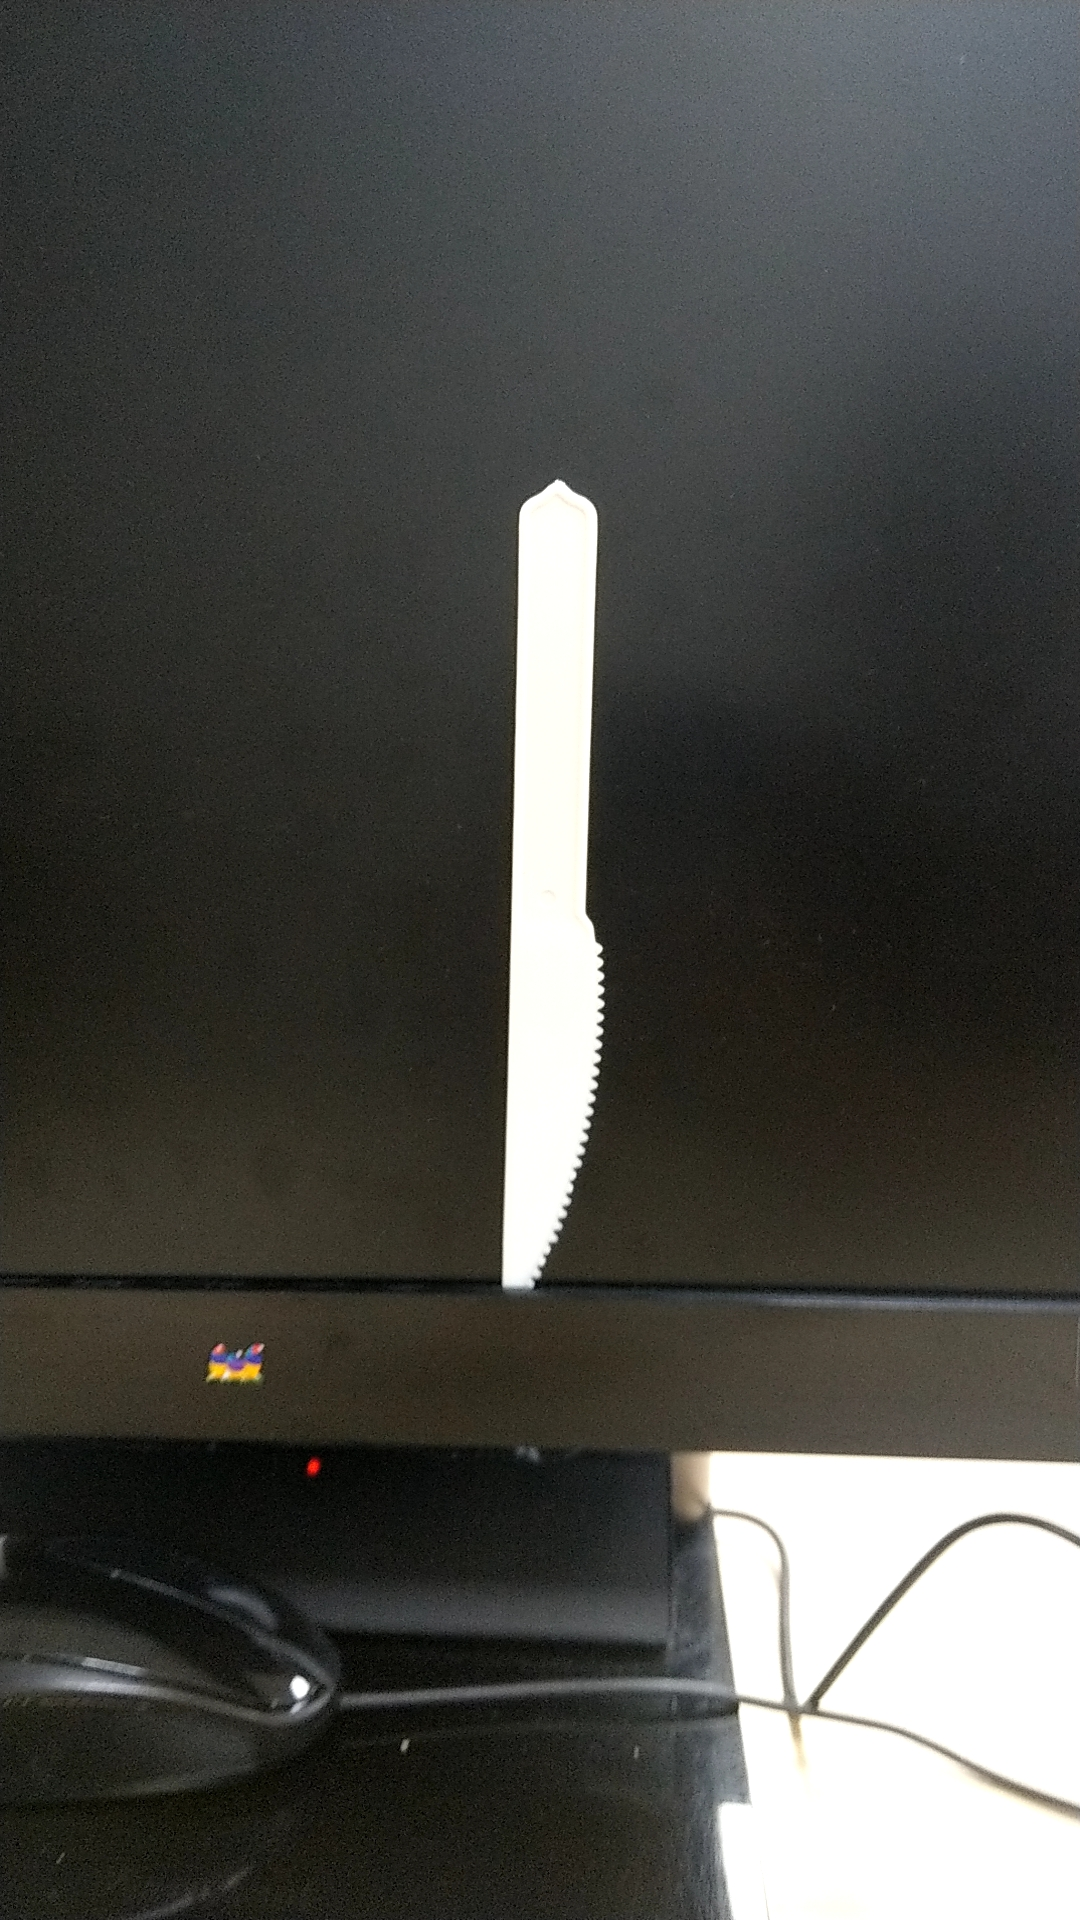knife: (469, 454, 622, 1304)
